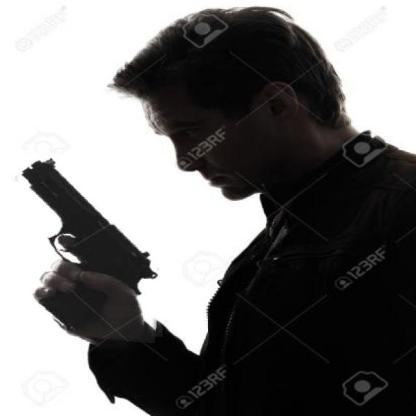handgun: (3, 153, 166, 340)
